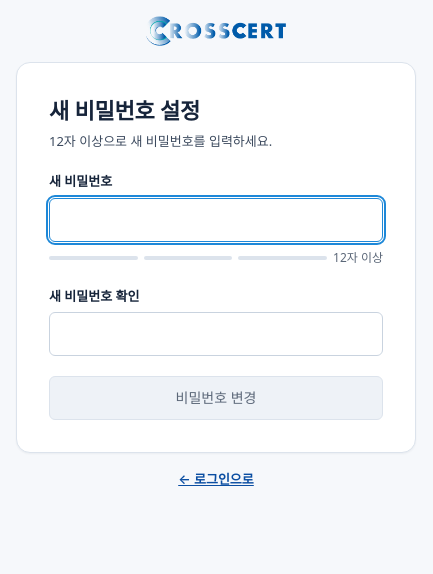
Scenario: ResetPasswordPage V3 › 토큰과 무관한 400 은 서버 메시지를 오류 배너로, 폼 유지
Step 1. Type "password-12chars" into the password field labelled "새 비밀번호" → (216, 220), box [49, 198, 383, 242]
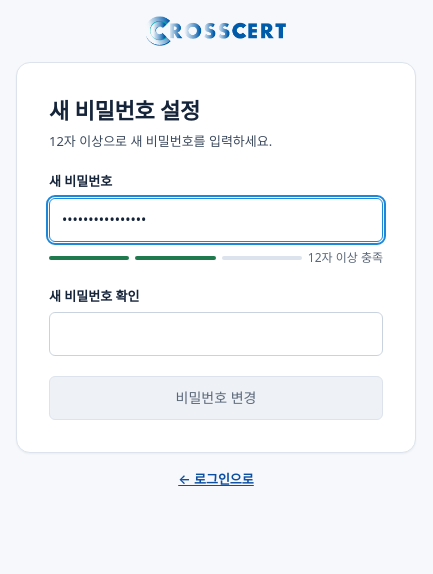
Step 2. Type "password-12chars" into the password field labelled "새 비밀번호 확인" → (216, 334), box [49, 312, 383, 356]
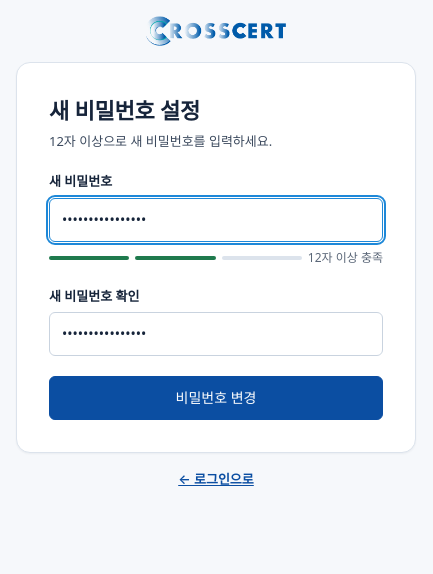
Step 3. Click the button "비밀번호 변경" → click(216, 398), box [49, 376, 383, 420]
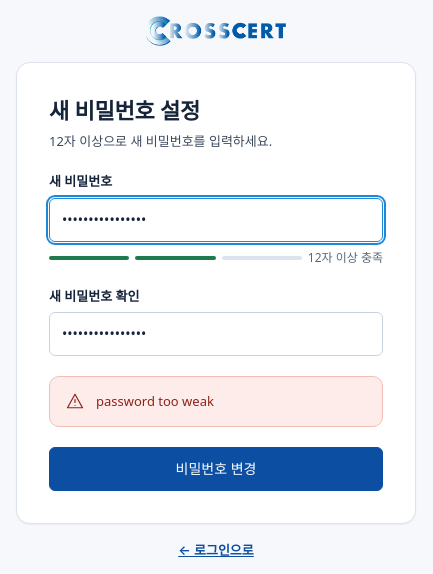
Expected: the button "비밀번호 변경" is shown, [49, 447, 383, 491]
Now the message reads "password too weak", box [96, 392, 214, 410]
